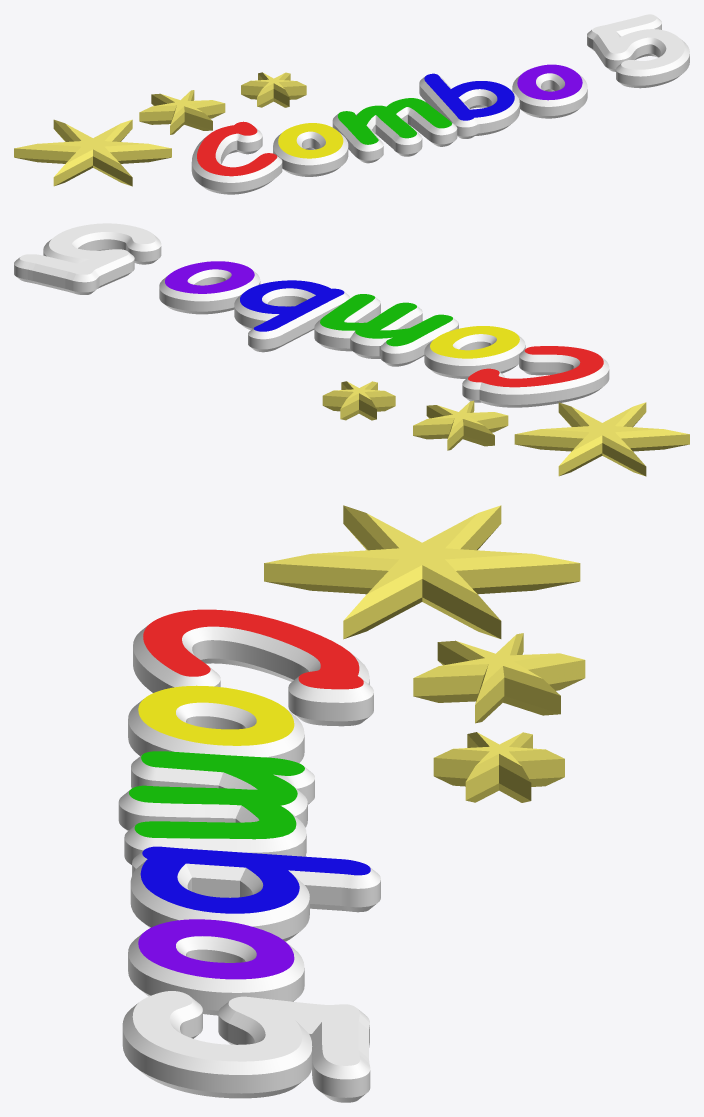
File: combo5.FBX
3 views of the same model, one above another, from view 1: azimuth 30°, elevation 25°; view 2: azimuth 150°, elevation 25°; view 3: azimuth 270°, elevation 25° (orthographic). The views are drawn at different scales.
Visible parts, largest first — view 1: Text001, Text002, Star001, Star002, Star003; view 2: Text001, Text002, Star001, Star002, Star003; view 3: Text001, Text002, Star001, Star002, Star003.
Boxes of the visible parts, <box> form: Text001: <box>191,64,587,194</box>; Text002: <box>587,14,689,88</box>; Star001: <box>14,119,171,186</box>; Star002: <box>139,90,225,134</box>; Star003: <box>241,72,306,107</box>; Text001: <box>159,261,609,407</box>; Text002: <box>14,223,161,294</box>; Star001: <box>514,402,689,476</box>; Star002: <box>413,400,508,450</box>; Star003: <box>322,381,395,420</box>; Text001: <box>118,609,380,1015</box>; Text002: <box>122,991,370,1102</box>; Star001: <box>264,505,580,639</box>; Star002: <box>413,633,585,723</box>; Star003: <box>433,732,564,802</box>.
Size of the model in its own units: 0.2759 by 0.0918 by 0.012.
